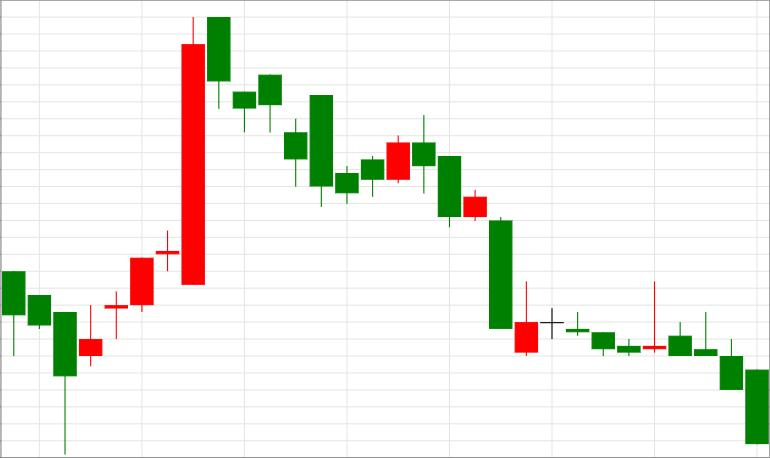inverse_hammer_rise: (412, 116, 539, 356)
